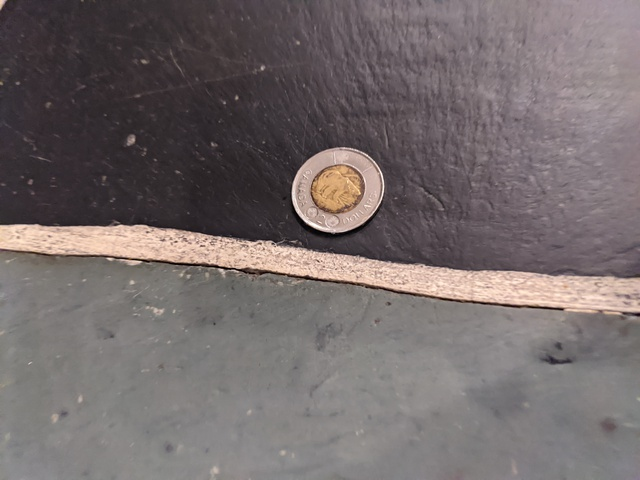twonie: (286, 141, 400, 239)
